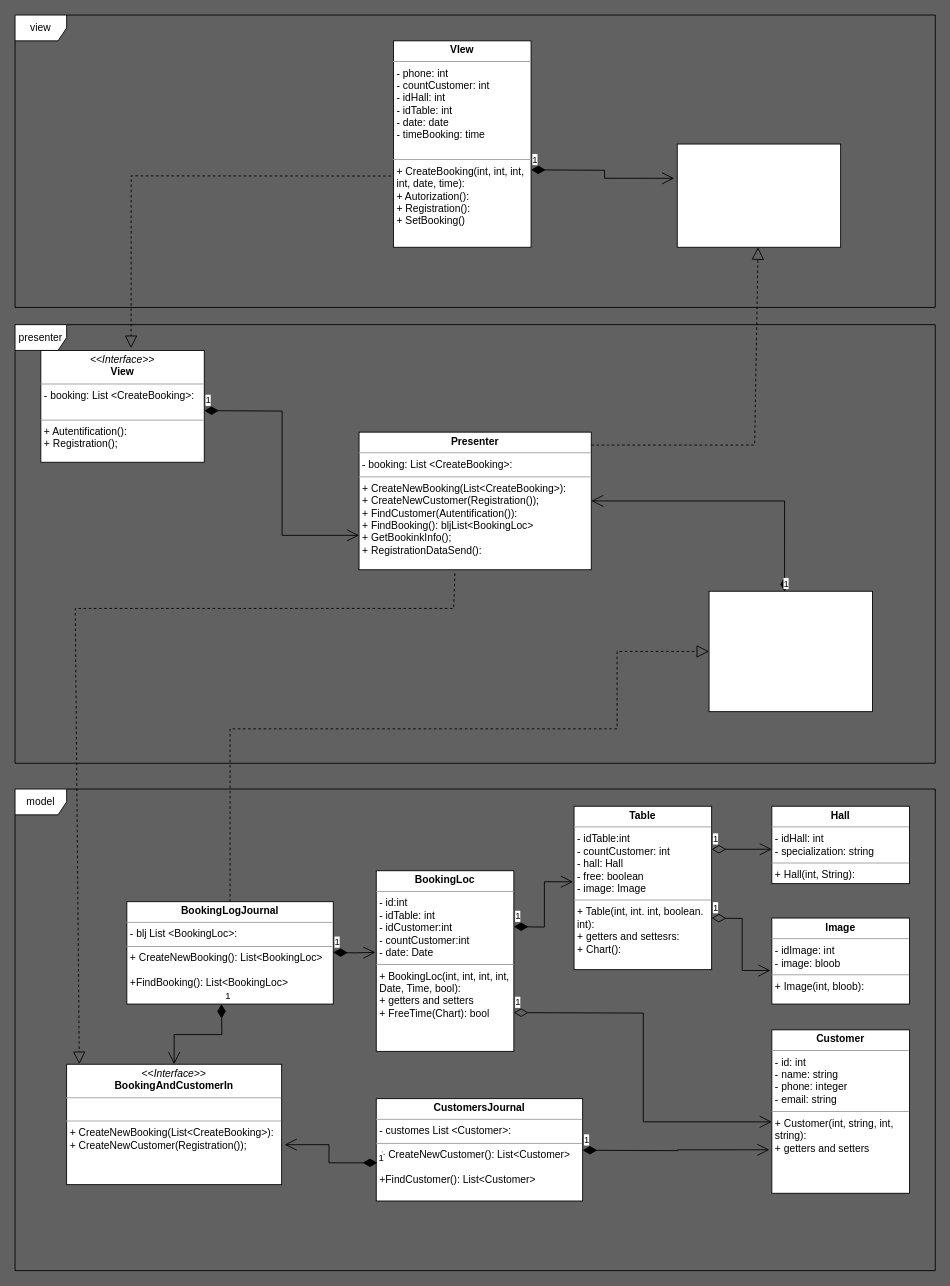
This 950x1286 diagram has some shape labels left out. The centre of each missing label's shape, as x and y in pixels:
<<Interface>> GetBookinginfo + GetBookinkInfo(); + RegistrationDataSend():: the point at 758,195
<<Interface>> iBLJ - blj List <BookingLoc>:: the point at 790,651
